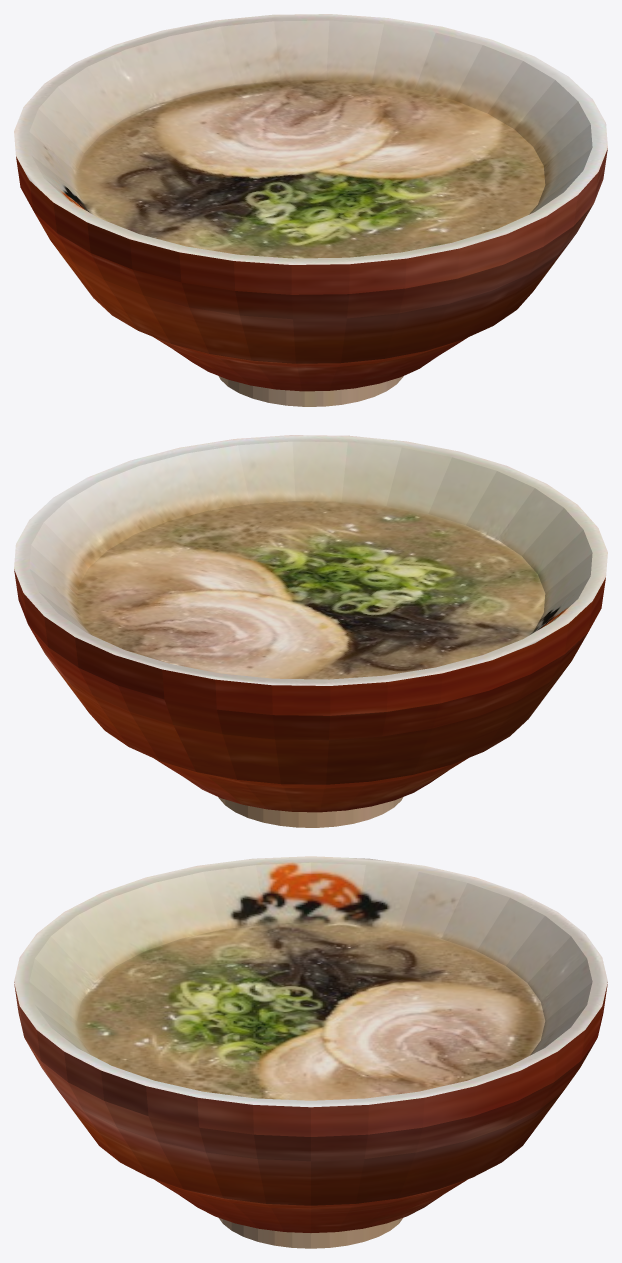
File: daruma.fbx
The picture shows the model from 3 angles, top to bottom: view 1: azimuth 30°, elevation 25°; view 2: azimuth 150°, elevation 25°; view 3: azimuth 270°, elevation 25°; orthographic projection.
Visible parts, largest first — view 1: Cylinder; view 2: Cylinder; view 3: Cylinder.
Part boxes in pixels (x1,y1,x2,y2): Cylinder: (14, 14, 607, 406); Cylinder: (14, 435, 607, 827); Cylinder: (14, 856, 607, 1248).
Bounding box in the file's own units: 923 × 389 × 923.
1 material, 1 textured.
